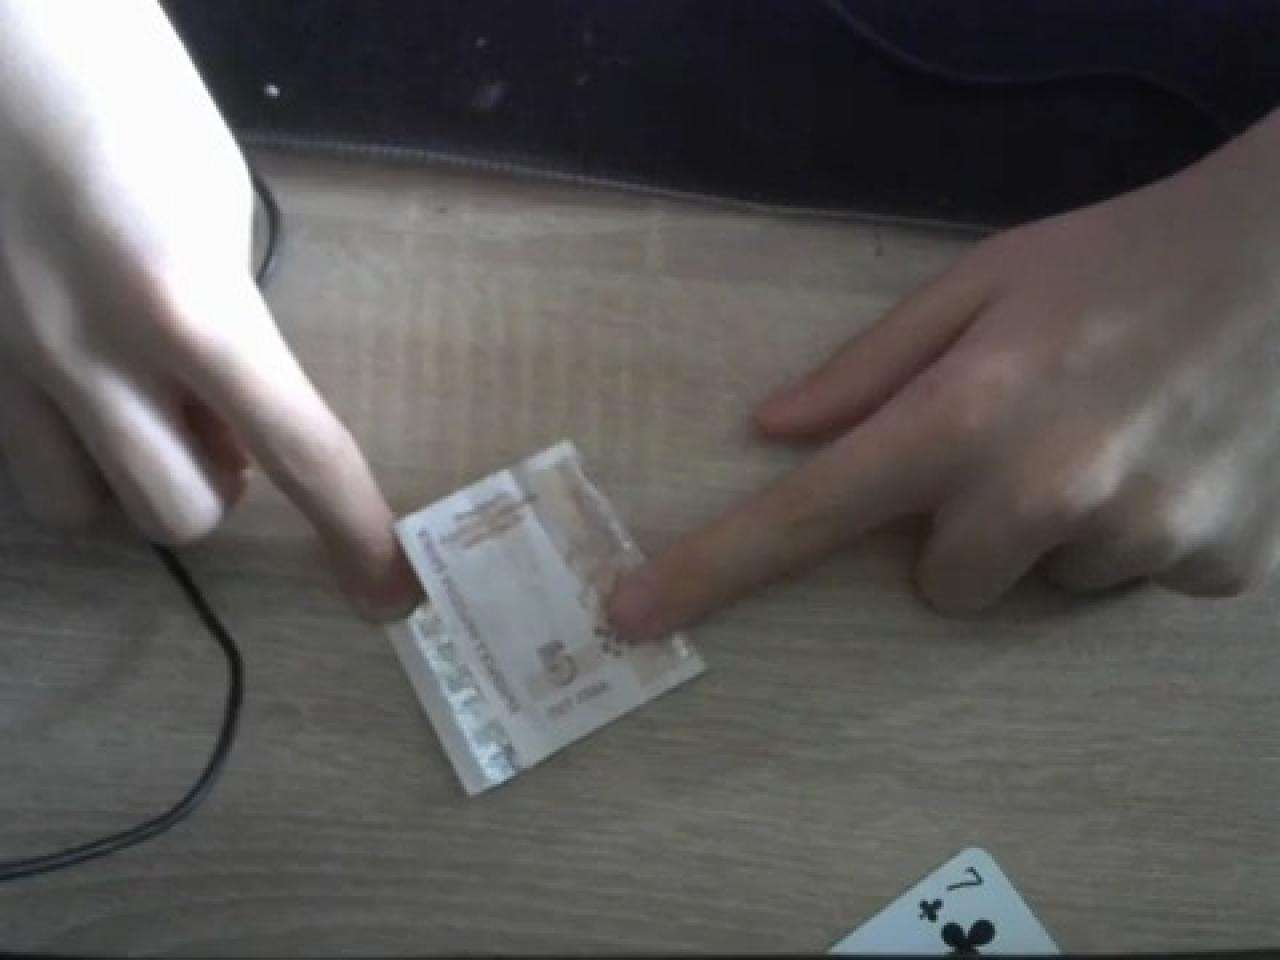5leva: (387, 443, 707, 800)
